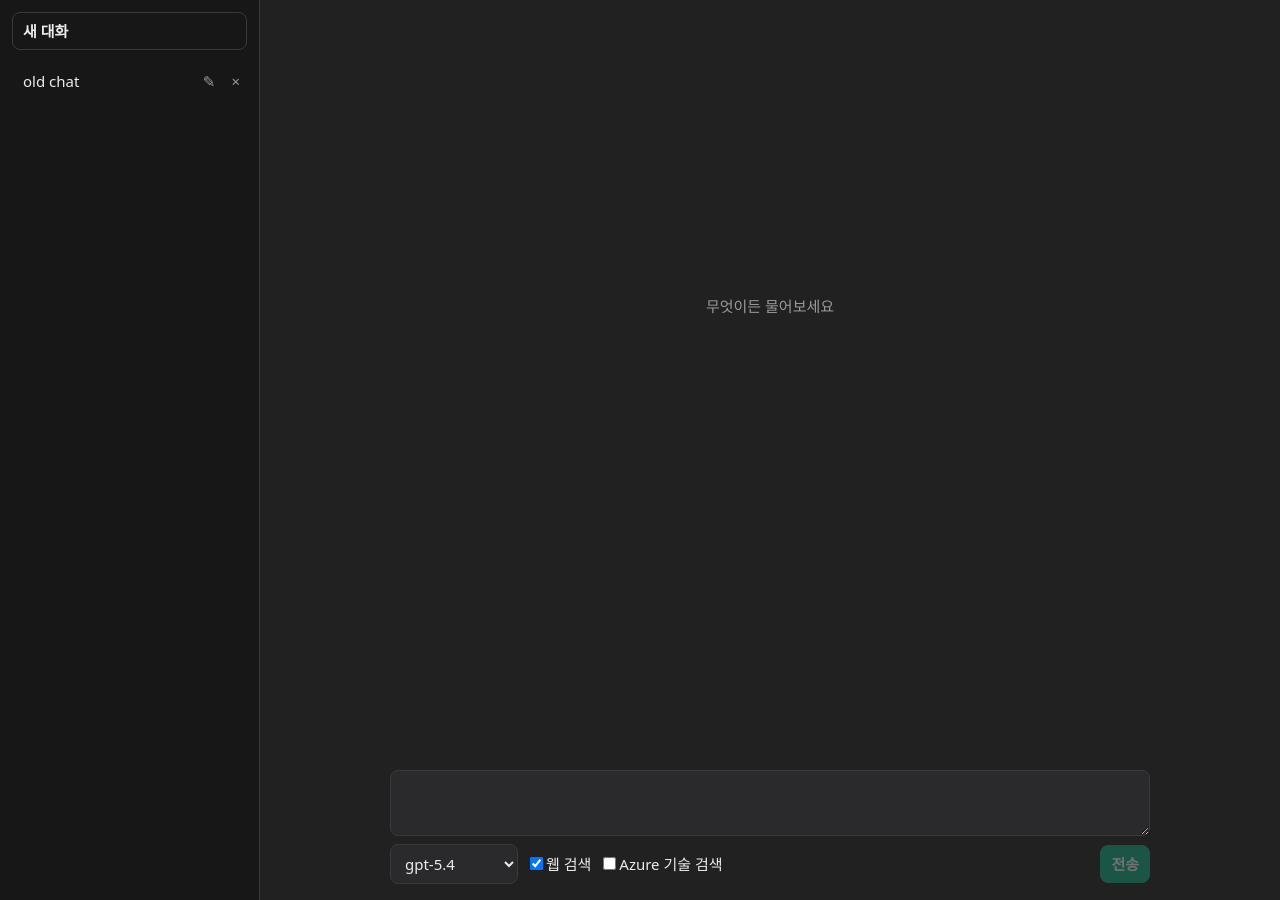
Test: clears messages when starting a new chat
The image size is (1280, 900).
Click the button "old chat".
click(103, 81)  # box [12, 62, 194, 100]
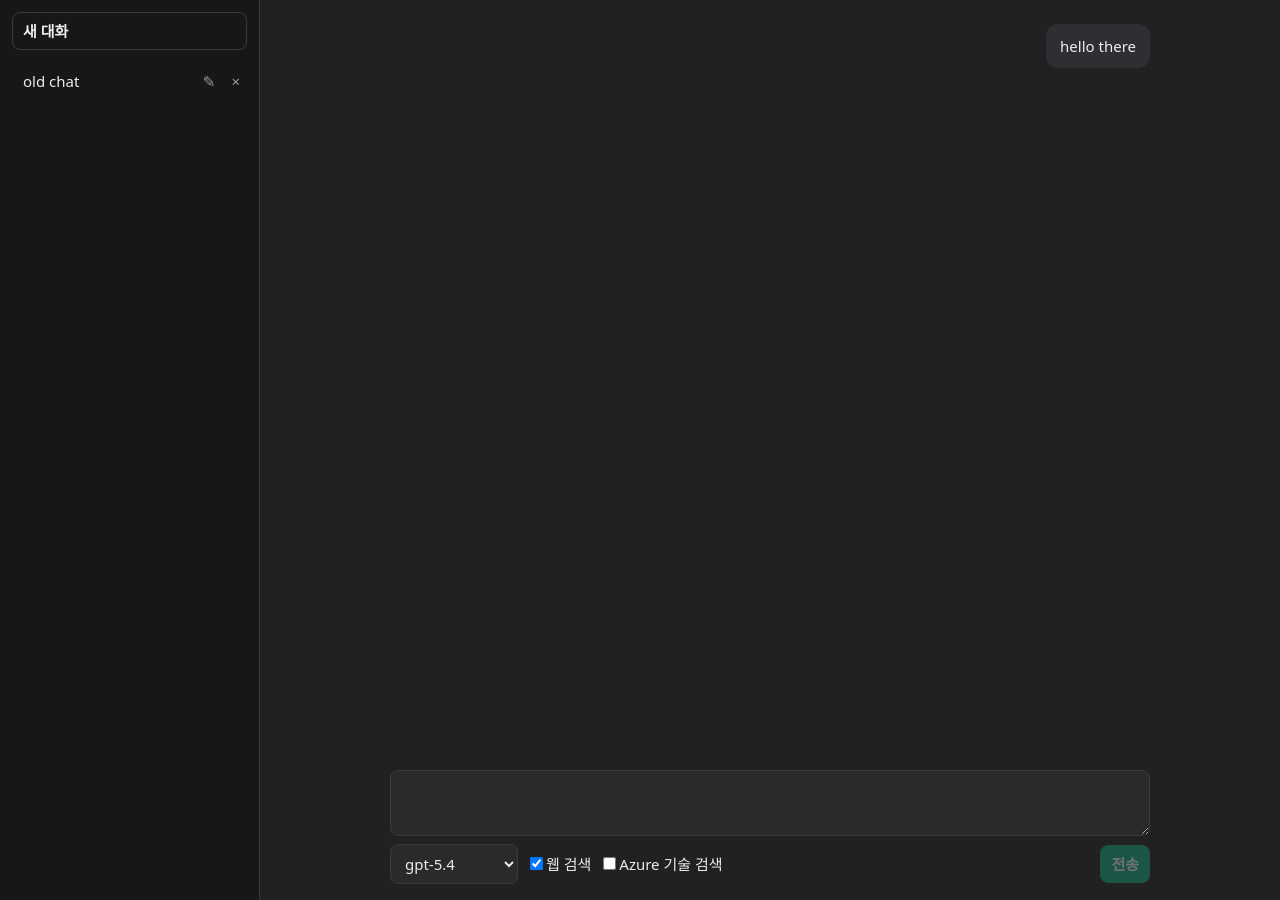
Result: the text "hello there" is shown at [1046, 24, 1150, 68]
Click the button "새 대화".
click(130, 31)  # box [12, 12, 247, 50]
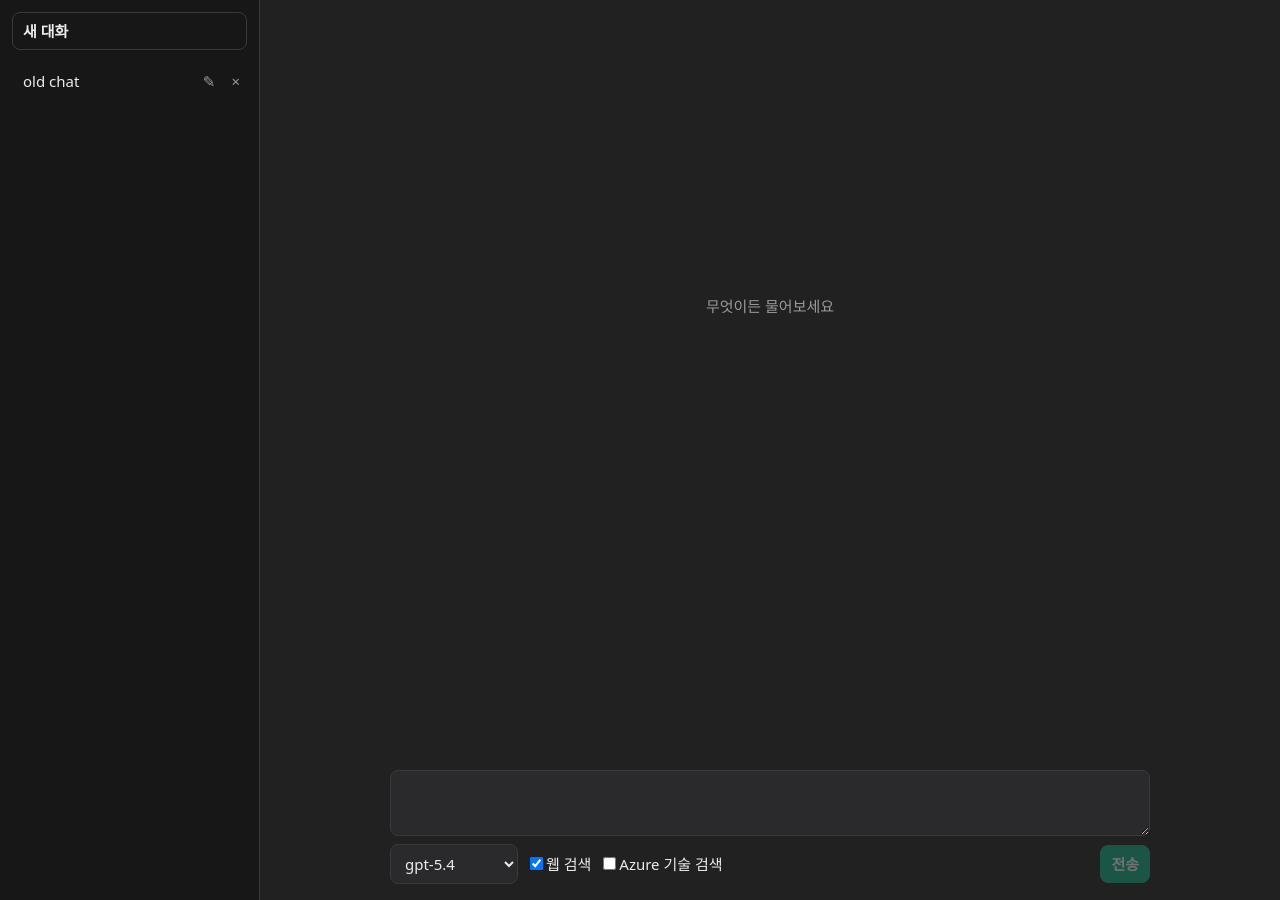
Result: the text "hello there" is gone
Result: the text "무엇이든 물어보세요" is shown at [706, 296, 834, 316]
